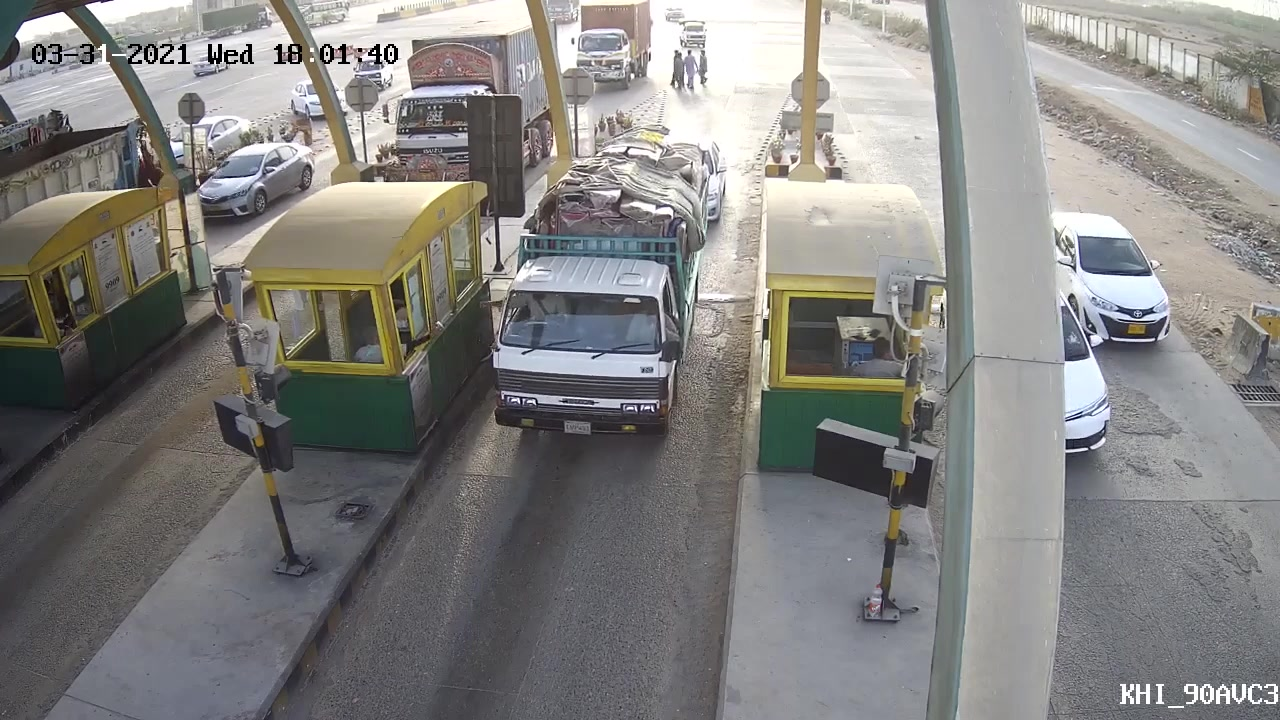F3: (482, 124, 725, 448)
